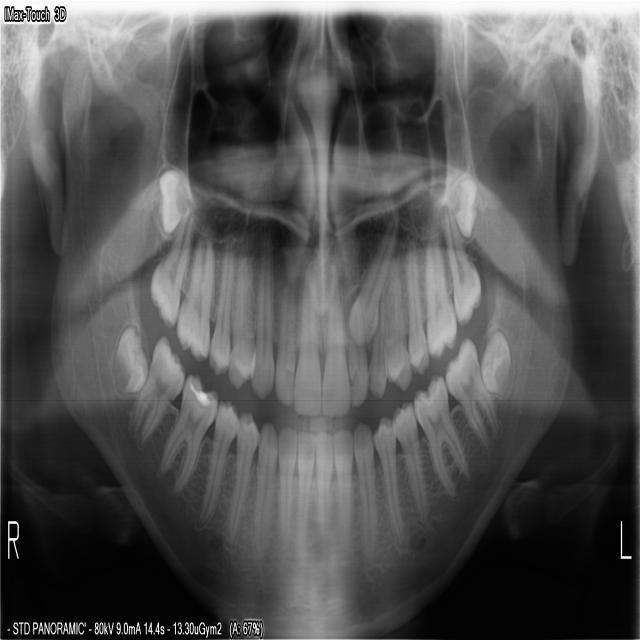LCD: (353, 423, 377, 558)
LCU: (350, 224, 399, 350)
LID: (330, 422, 354, 544), (313, 427, 333, 550)
LIU: (320, 269, 351, 420), (345, 277, 369, 409)
LMD: (411, 369, 472, 498), (444, 333, 502, 450), (476, 328, 517, 400)
LMU: (422, 225, 457, 367), (442, 209, 482, 328), (407, 235, 430, 374)
LPMD: (393, 403, 430, 519), (374, 412, 401, 537)
LPMU: (386, 255, 415, 397), (370, 298, 388, 410)
RCD: (250, 415, 277, 563)
RCU: (248, 240, 274, 403)
RID: (274, 427, 296, 545), (294, 427, 313, 559)
RIU: (292, 260, 323, 418), (272, 257, 299, 412)
RMD: (159, 372, 222, 493), (126, 335, 186, 448), (107, 323, 150, 409)
RMU: (171, 224, 217, 363), (148, 212, 198, 333), (151, 162, 196, 242)
RPMD: (197, 402, 237, 529), (225, 408, 257, 544)
RPMU: (227, 242, 256, 388), (207, 235, 234, 380)
